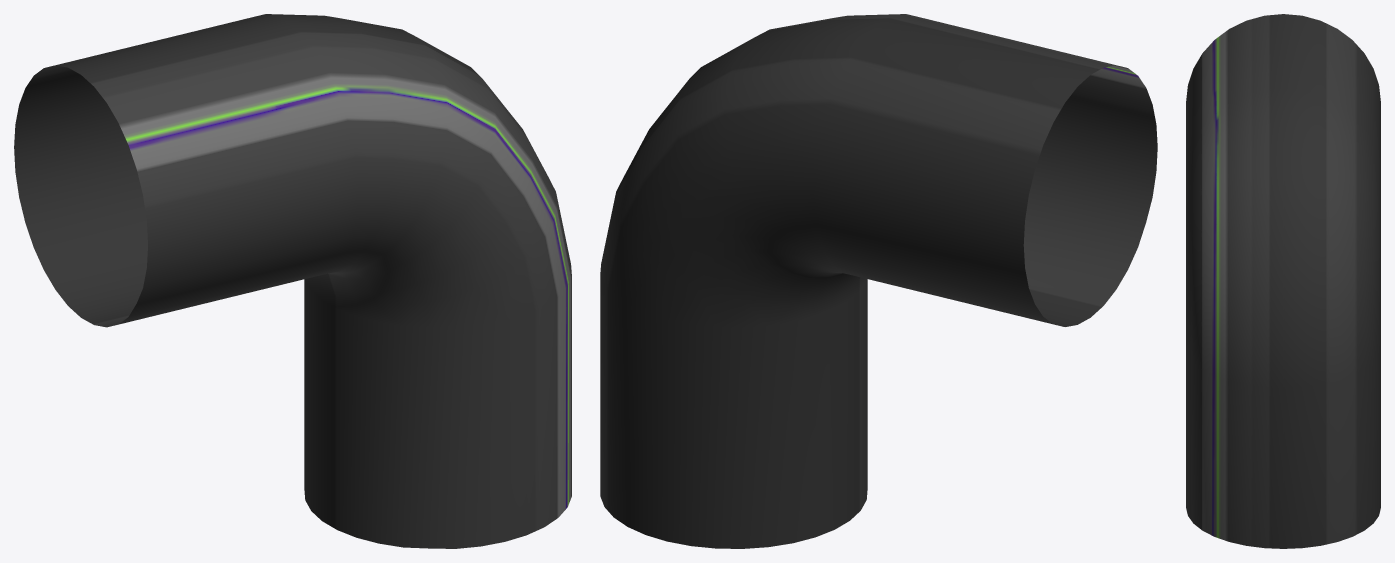
Rendered from SM_Pipe_Angle_01.fbx.
3 views of the same model, side by side, from view 1: azimuth 30°, elevation 25°; view 2: azimuth 150°, elevation 25°; view 3: azimuth 270°, elevation 25° (orthographic). The views are drawn at different scales.
Visible parts, largest first — view 1: SM_Pipe_Angle_01; view 2: SM_Pipe_Angle_01; view 3: SM_Pipe_Angle_01.
Boxes of the visible parts, left/top/right/bottom form: SM_Pipe_Angle_01: left=14, top=14, right=571, bottom=548; SM_Pipe_Angle_01: left=600, top=14, right=1157, bottom=548; SM_Pipe_Angle_01: left=1186, top=14, right=1380, bottom=548.
Bounding box in the file's own units: 6.17 × 6.29 × 3.03.
